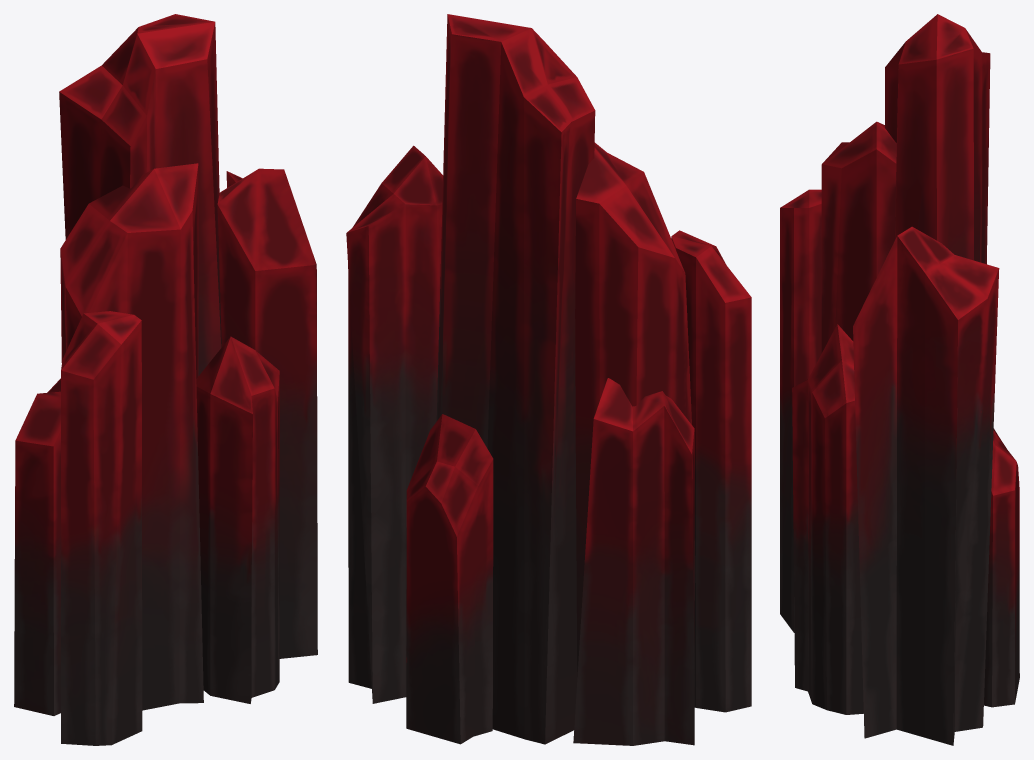
The model's file is zincite.glb.
The picture shows the model from 3 angles, left to right: view 1: azimuth 30°, elevation 25°; view 2: azimuth 150°, elevation 25°; view 3: azimuth 270°, elevation 25°; orthographic projection. The views are drawn at different scales.
Visible parts, largest first — view 1: Stone01LOD0; view 2: Stone01LOD0; view 3: Stone01LOD0.
Boxes of the visible parts, x1=… form: Stone01LOD0: x1=14, y1=14, x2=317, y2=745; Stone01LOD0: x1=346, y1=14, x2=751, y2=745; Stone01LOD0: x1=780, y1=14, x2=1019, y2=745.
Size of what is drawn, in the model's own units: 1.57 by 3.17 by 1.06.
1 material, 1 textured.
